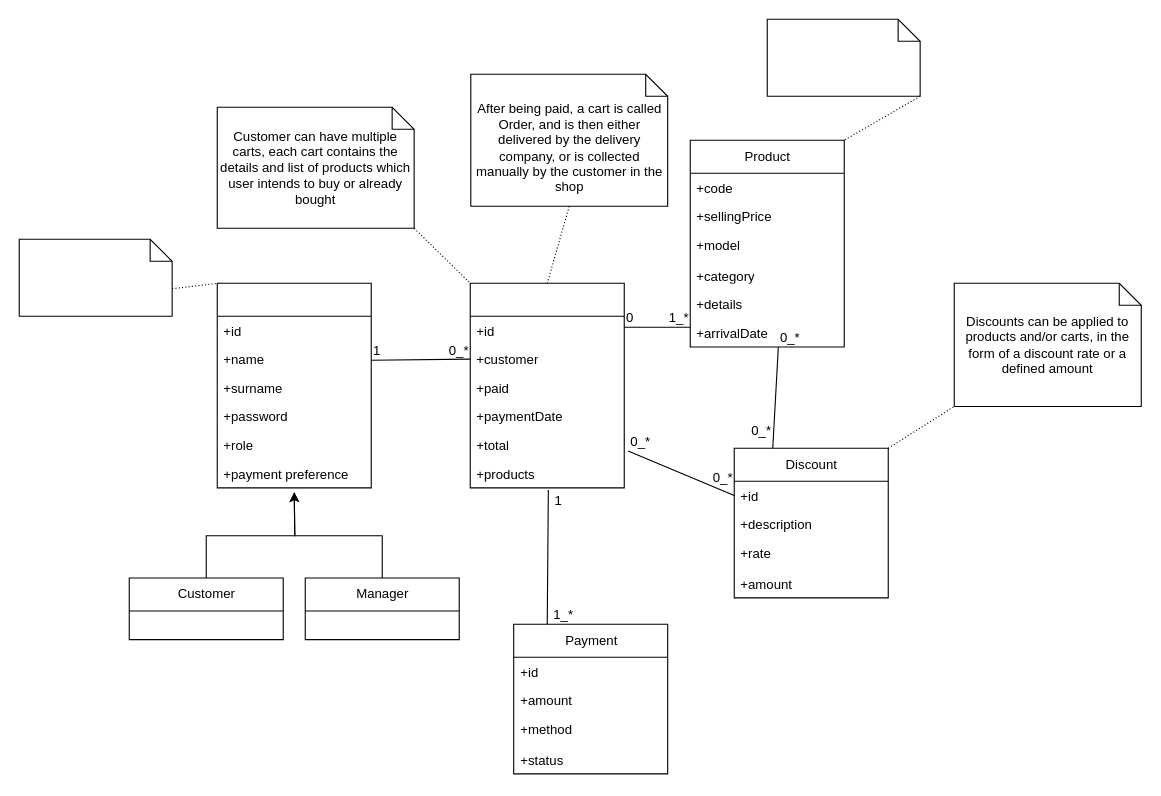
The diagram is 1161 pixels wide and 796 high, and some of its shapes have lost their labels. Each missing label, with the box of its shape:
Cart: (469, 282, 624, 488)
Only manager can add/delete products: (18, 238, 172, 316)
Represent an item in the system: (766, 18, 920, 96)
User: (216, 282, 371, 488)
